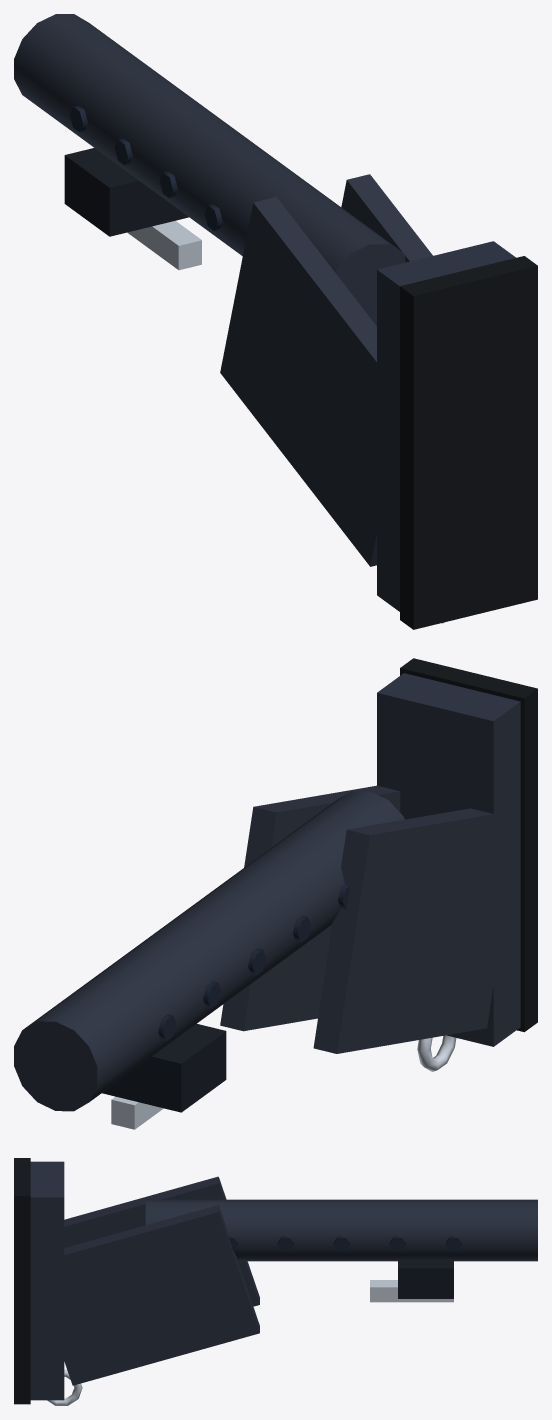
The model's file is attach_bracestock.glb.
The picture shows the model from 3 angles, top to bottom: view 1: azimuth 30°, elevation 25°; view 2: azimuth 150°, elevation 25°; view 3: azimuth 270°, elevation 25°; orthographic projection. The views are drawn at different scales.
Visible parts, largest first — view 1: attach_bracestock_rubber, attach_bracestock_strut-1, attach_bracestock_tube, attach_bracestock_pad, attach_bracestock_lock, attach_bracestock_strut1, attach_bracestock_lever; view 2: attach_bracestock_strut-1, attach_bracestock_tube, attach_bracestock_pad, attach_bracestock_strut1, attach_bracestock_rubber, attach_bracestock_lock, attach_bracestock_lever, attach_bracestock_loop; view 3: attach_bracestock_strut1, attach_bracestock_tube, attach_bracestock_pad, attach_bracestock_rubber, attach_bracestock_strut-1, attach_bracestock_lock, attach_bracestock_lever, attach_bracestock_loop.
Part boxes in pixels (left/top/right/bottom): attach_bracestock_rubber: left=400, top=256, right=537, bottom=629; attach_bracestock_strut-1: left=220, top=197, right=399, bottom=566; attach_bracestock_tube: left=14, top=14, right=405, bottom=325; attach_bracestock_pad: left=377, top=241, right=515, bottom=611; attach_bracestock_lock: left=64, top=148, right=188, bottom=236; attach_bracestock_strut1: left=341, top=174, right=432, bottom=262; attach_bracestock_lever: left=127, top=221, right=201, bottom=270; attach_bracestock_strut-1: left=313, top=808, right=519, bottom=1053; attach_bracestock_tube: left=14, top=791, right=404, bottom=1111; attach_bracestock_pad: left=377, top=673, right=520, bottom=1046; attach_bracestock_strut1: left=220, top=785, right=400, bottom=1031; attach_bracestock_rubber: left=400, top=658, right=537, bottom=1032; attach_bracestock_lock: left=102, top=1024, right=226, bottom=1112; attach_bracestock_lever: left=111, top=1096, right=163, bottom=1129; attach_bracestock_loop: left=417, top=1035, right=456, bottom=1071; attach_bracestock_strut1: left=31, top=1205, right=259, bottom=1385; attach_bracestock_tube: left=145, top=1199, right=537, bottom=1261; attach_bracestock_pad: left=30, top=1161, right=64, bottom=1400; attach_bracestock_rubber: left=14, top=1158, right=30, bottom=1404; attach_bracestock_strut-1: left=64, top=1176, right=259, bottom=1306; attach_bracestock_lock: left=398, top=1259, right=453, bottom=1298; attach_bracestock_lever: left=370, top=1280, right=453, bottom=1302; attach_bracestock_loop: left=47, top=1369, right=82, bottom=1405.
Size of the model in its own units: 0.032 by 0.0901 by 0.187.
